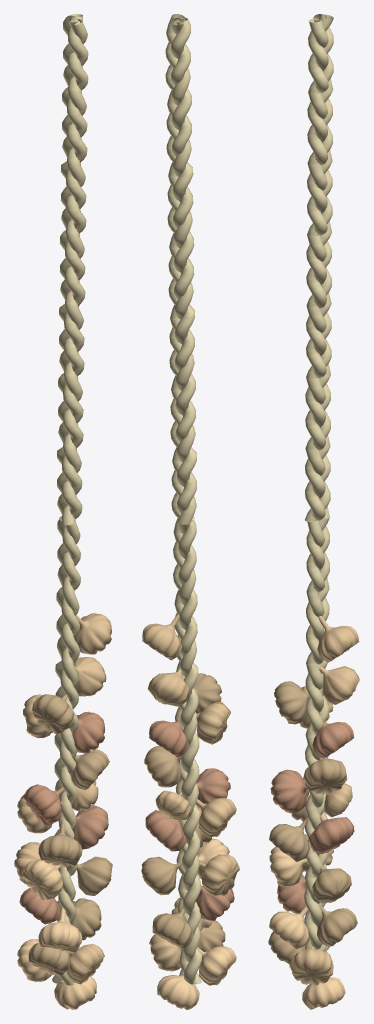
Rendered from Kitchen_set_Kitchen_set_Kitchen_set_Props_grp_Kitchen_set_North_grp_Kitchen_set_NorthWall_grp_Kitchen_set_GarlicRope_1.obj.
The picture shows the model from 3 angles, left to right: view 1: azimuth 30°, elevation 25°; view 2: azimuth 210°, elevation 25°; view 3: azimuth 330°, elevation 25°; orthographic projection.
Parts seen in each view (by area): view 1: NCCA_Export Kitchen_set_pCylinder564, Kitchen_set_pCylinder563 NCCA_Export, NCCA_Export Kitchen_set_pCylinder582, NCCA_Export Kitchen_set_pCylinder585, NCCA_Export Kitchen_set_pCylinder566, NCCA_Export Kitchen_set_pCylinder578, NCCA_Export Kitchen_set_pCylinder580, NCCA_Export Kitchen_set_pCylinder565, NCCA_Export Kitchen_set_pCylinder584, NCCA_Export Kitchen_set_pCylinder574, NCCA_Export Kitchen_set_pCylinder570, NCCA_Export Kitchen_set_pCylinder568 (+11 smaller); view 2: NCCA_Export Kitchen_set_pCylinder564, Kitchen_set_pCylinder563 NCCA_Export, NCCA_Export Kitchen_set_pCylinder579, NCCA_Export Kitchen_set_pCylinder569, NCCA_Export Kitchen_set_pCylinder567, NCCA_Export Kitchen_set_pCylinder581, NCCA_Export Kitchen_set_pCylinder571, NCCA_Export Kitchen_set_pCylinder566, NCCA_Export Kitchen_set_pCylinder565, NCCA_Export Kitchen_set_pCylinder574, NCCA_Export Kitchen_set_pCylinder577, NCCA_Export Kitchen_set_pCylinder583 (+9 smaller); view 3: NCCA_Export Kitchen_set_pCylinder564, Kitchen_set_pCylinder563 NCCA_Export, NCCA_Export Kitchen_set_pCylinder570, NCCA_Export Kitchen_set_pCylinder580, NCCA_Export Kitchen_set_pCylinder569, NCCA_Export Kitchen_set_pCylinder565, NCCA_Export Kitchen_set_pCylinder567, NCCA_Export Kitchen_set_pCylinder571, NCCA_Export Kitchen_set_pCylinder582, NCCA_Export Kitchen_set_pCylinder566, NCCA_Export Kitchen_set_pCylinder584, NCCA_Export Kitchen_set_pCylinder578 (+7 smaller).
Part boxes in pixels (<box>): NCCA_Export Kitchen_set_pCylinder564: <box>57,14,88,525</box>; Kitchen_set_pCylinder563 NCCA_Export: <box>52,519,80,985</box>; NCCA_Export Kitchen_set_pCylinder582: <box>32,694,73,733</box>; NCCA_Export Kitchen_set_pCylinder585: <box>22,858,62,899</box>; NCCA_Export Kitchen_set_pCylinder566: <box>74,613,111,654</box>; NCCA_Export Kitchen_set_pCylinder578: <box>38,819,82,866</box>; NCCA_Export Kitchen_set_pCylinder580: <box>23,784,64,825</box>; NCCA_Export Kitchen_set_pCylinder565: <box>73,805,108,849</box>; NCCA_Export Kitchen_set_pCylinder584: <box>38,906,82,953</box>; NCCA_Export Kitchen_set_pCylinder574: <box>76,856,112,895</box>; NCCA_Export Kitchen_set_pCylinder570: <box>66,944,104,984</box>; NCCA_Export Kitchen_set_pCylinder568: <box>72,711,105,753</box>; NCCA_Export Kitchen_set_pCylinder564: <box>165,14,196,524</box>; Kitchen_set_pCylinder563 NCCA_Export: <box>173,518,201,984</box>; NCCA_Export Kitchen_set_pCylinder579: <box>199,854,239,895</box>; NCCA_Export Kitchen_set_pCylinder569: <box>144,746,181,787</box>; NCCA_Export Kitchen_set_pCylinder567: <box>147,666,189,706</box>; NCCA_Export Kitchen_set_pCylinder581: <box>196,798,236,837</box>; NCCA_Export Kitchen_set_pCylinder571: <box>152,906,193,948</box>; NCCA_Export Kitchen_set_pCylinder566: <box>142,613,182,660</box>; NCCA_Export Kitchen_set_pCylinder565: <box>145,810,186,851</box>; NCCA_Export Kitchen_set_pCylinder574: <box>141,856,181,895</box>; NCCA_Export Kitchen_set_pCylinder577: <box>197,946,236,985</box>; NCCA_Export Kitchen_set_pCylinder583: <box>196,701,230,744</box>; NCCA_Export Kitchen_set_pCylinder564: <box>305,14,333,521</box>; Kitchen_set_pCylinder563 NCCA_Export: <box>304,518,329,984</box>; NCCA_Export Kitchen_set_pCylinder570: <box>289,946,333,985</box>; NCCA_Export Kitchen_set_pCylinder580: <box>270,769,308,813</box>; NCCA_Export Kitchen_set_pCylinder569: <box>303,757,347,793</box>; NCCA_Export Kitchen_set_pCylinder565: <box>308,813,354,854</box>; NCCA_Export Kitchen_set_pCylinder567: <box>318,664,359,704</box>; NCCA_Export Kitchen_set_pCylinder571: <box>317,906,357,946</box>; NCCA_Export Kitchen_set_pCylinder582: <box>274,681,309,724</box>; NCCA_Export Kitchen_set_pCylinder566: <box>317,616,359,662</box>; NCCA_Export Kitchen_set_pCylinder584: <box>269,906,309,949</box>; NCCA_Export Kitchen_set_pCylinder578: <box>269,817,309,862</box>.
Bounding box in the file's own units: 0.0879 × 1 × 0.0805.
